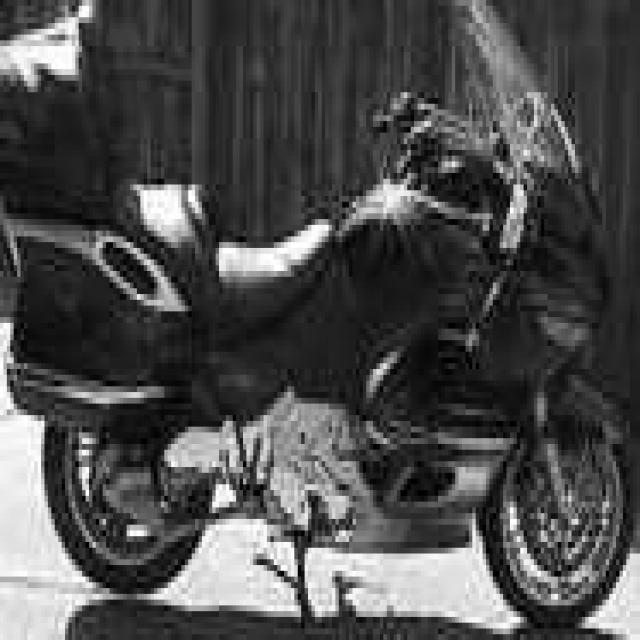Motorcycle: (2, 8, 634, 637)
